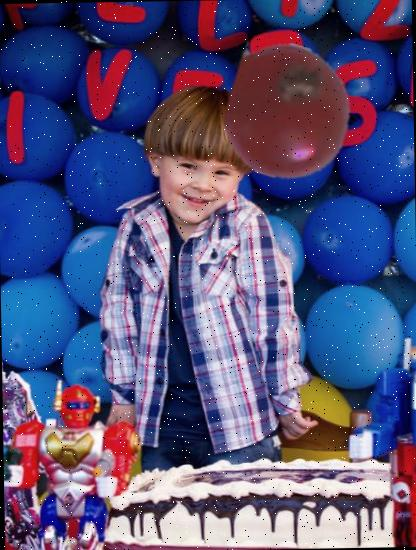Redcurrant: (220, 44, 357, 180)
